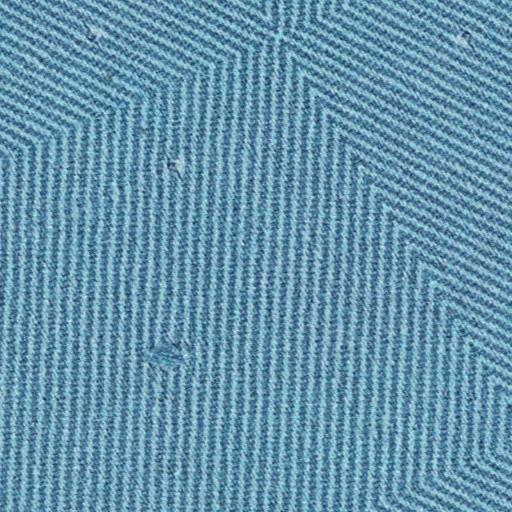knot: (131, 332, 207, 376)
